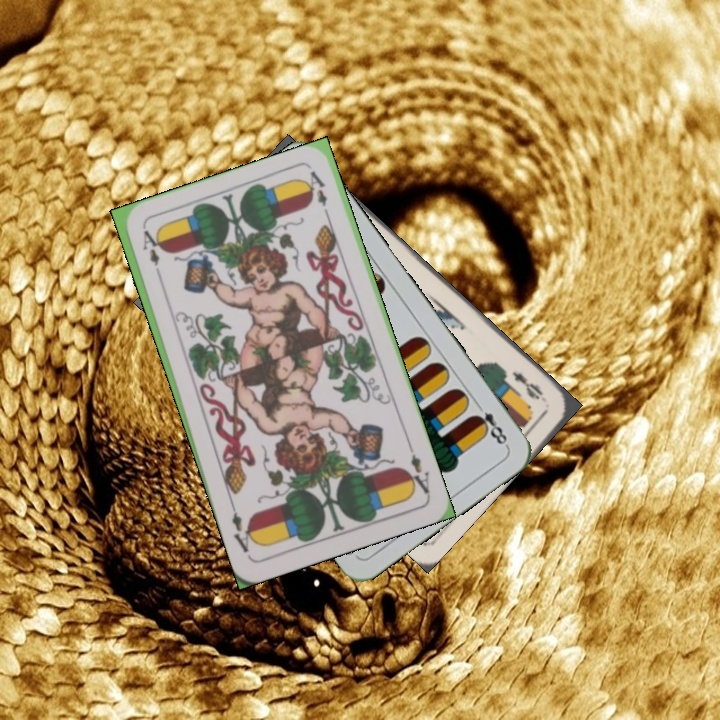E8: (469, 398, 511, 449)
EA: (138, 226, 165, 283), (403, 450, 433, 498)
EO: (508, 367, 550, 405)
